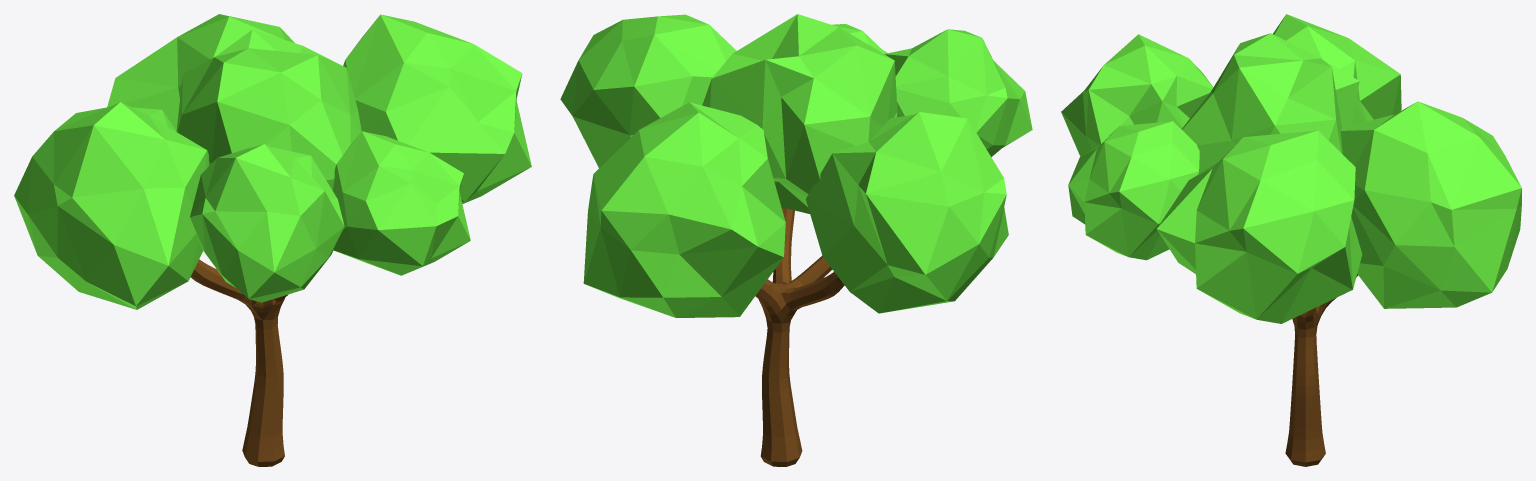
Rendered from Tree.fbx.
The picture shows the model from 3 angles, left to right: view 1: azimuth 30°, elevation 25°; view 2: azimuth 150°, elevation 25°; view 3: azimuth 270°, elevation 25°; orthographic projection. The views are drawn at different scales.
Visible parts, largest first — view 1: Tree; view 2: Tree; view 3: Tree.
Part boxes in pixels (x1=…): Tree: x1=14, y1=14, x2=531, y2=466; Tree: x1=560, y1=14, x2=1032, y2=466; Tree: x1=1061, y1=14, x2=1521, y2=466.
Size of the model in its own units: 1086 by 991 by 1025.
